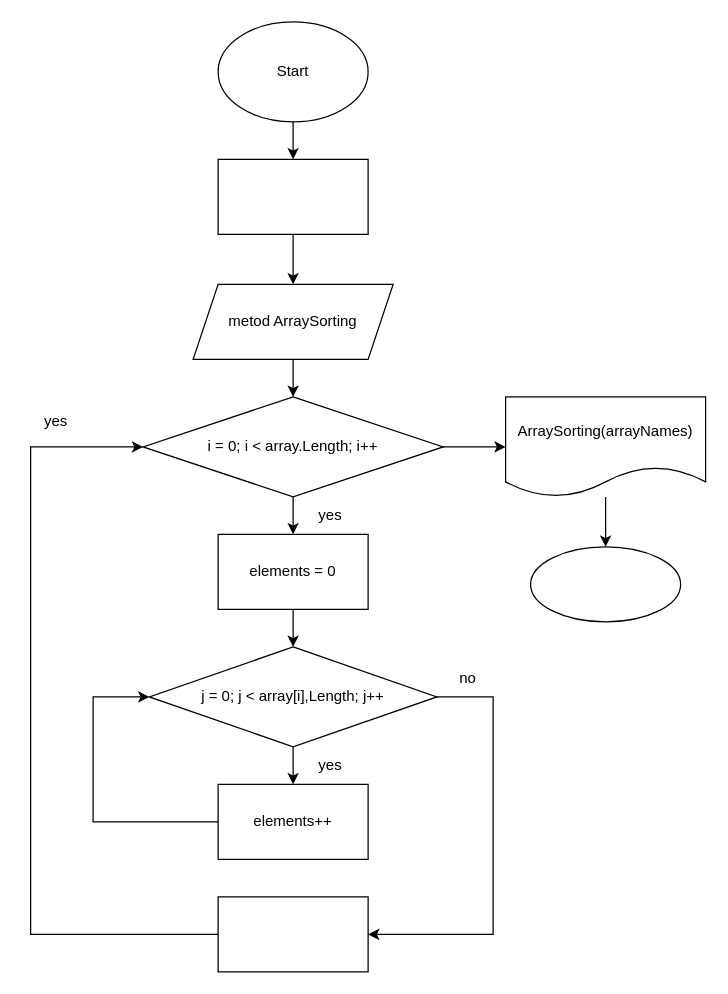
Image size: 728x994. Some labels were removed from this diagram. The box of each missing label's shape, as (x1, y1, x2, y2) in pixels:
element <= 3: (217, 896, 368, 972)
Finish: (529, 546, 681, 622)
string[] arrayNames: (217, 158, 368, 234)
